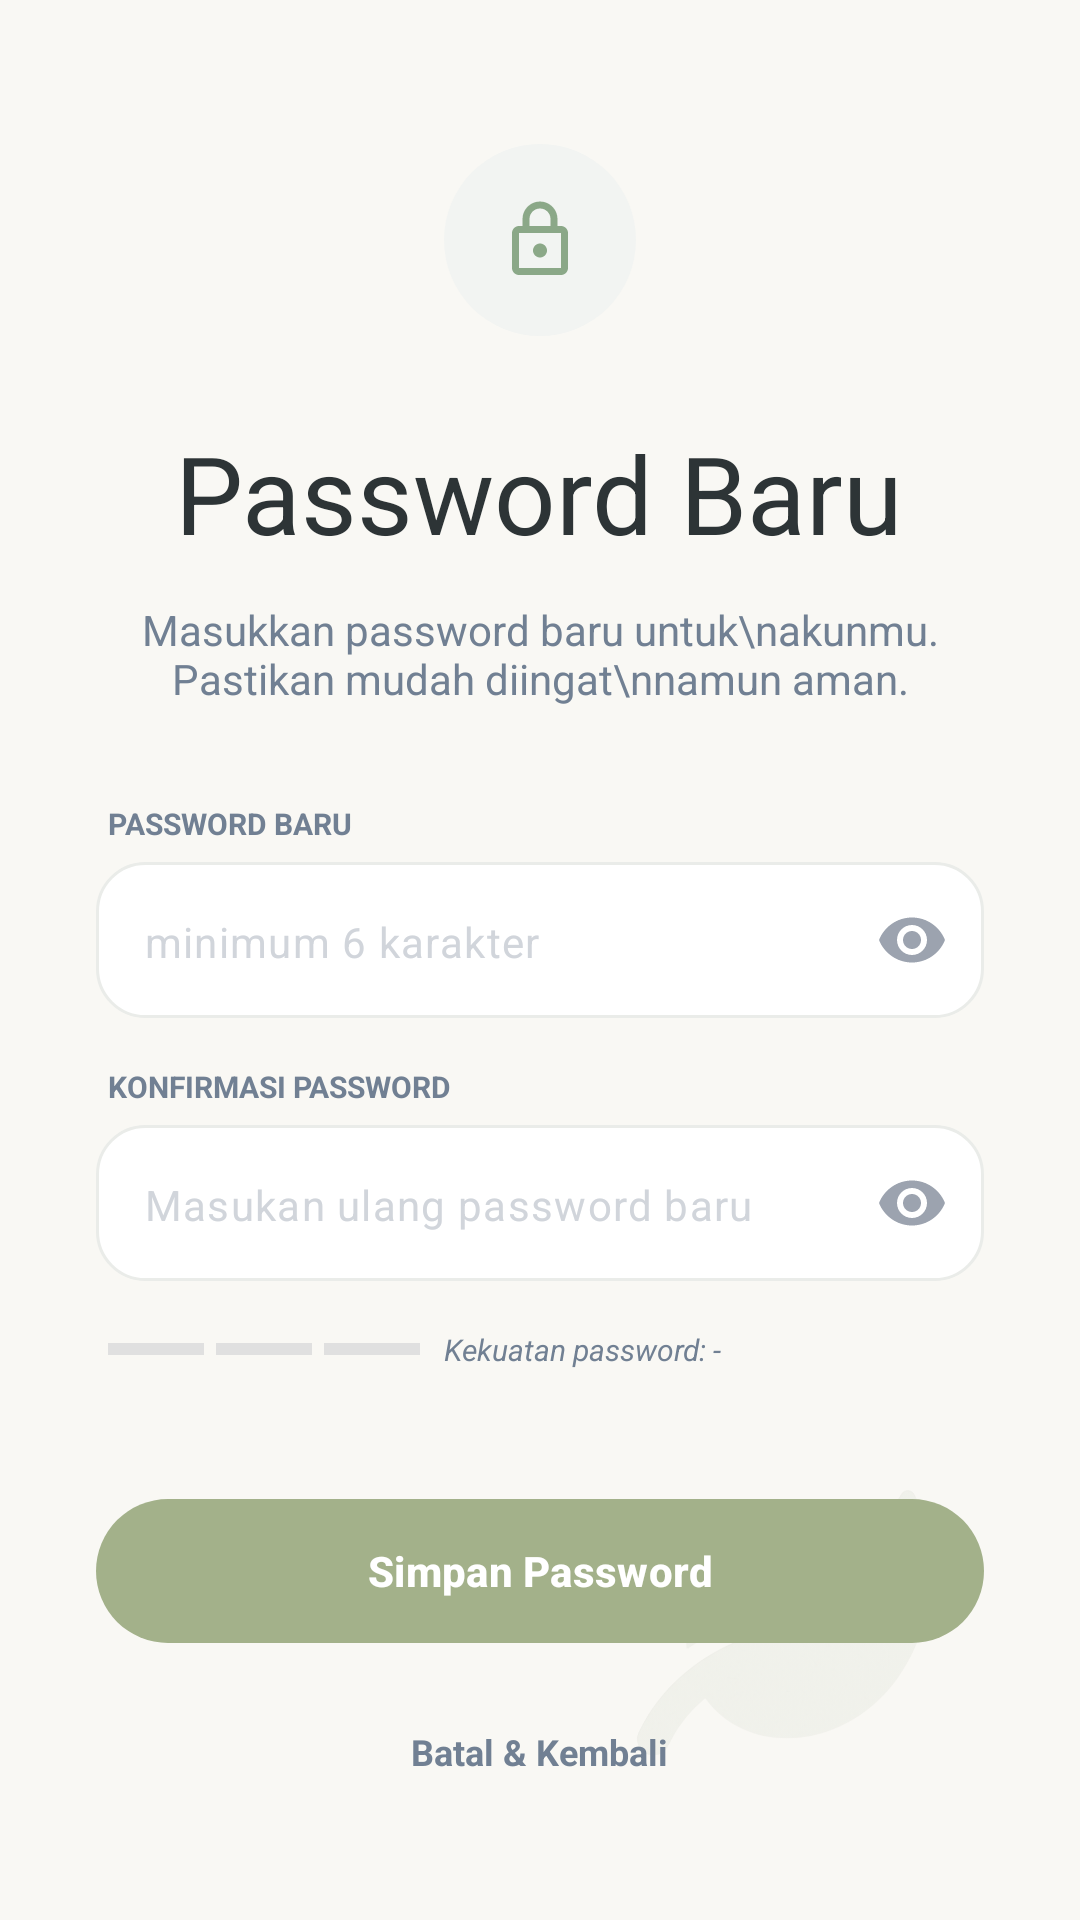

Where icons sit on this 1080 x 1920 app screen, as (x1, y1, x2, y2):
lock: (512, 201, 568, 275)
